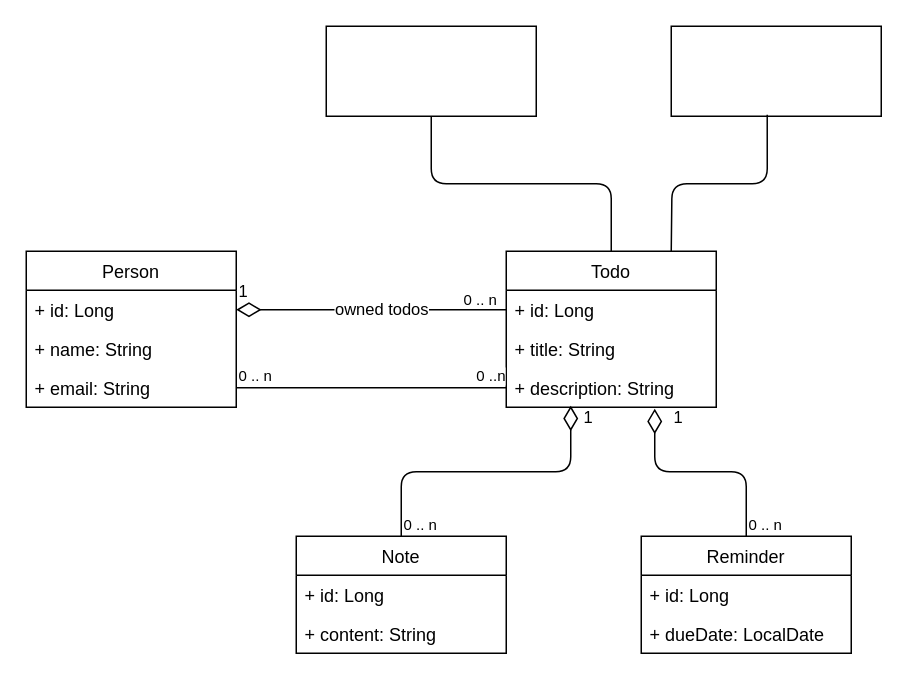
Image size: 908x684. Some labels were removed from this diagram. Each missing label, with the centre of its shape:
Priority: (x=430, y=70)
Status: (x=775, y=70)
